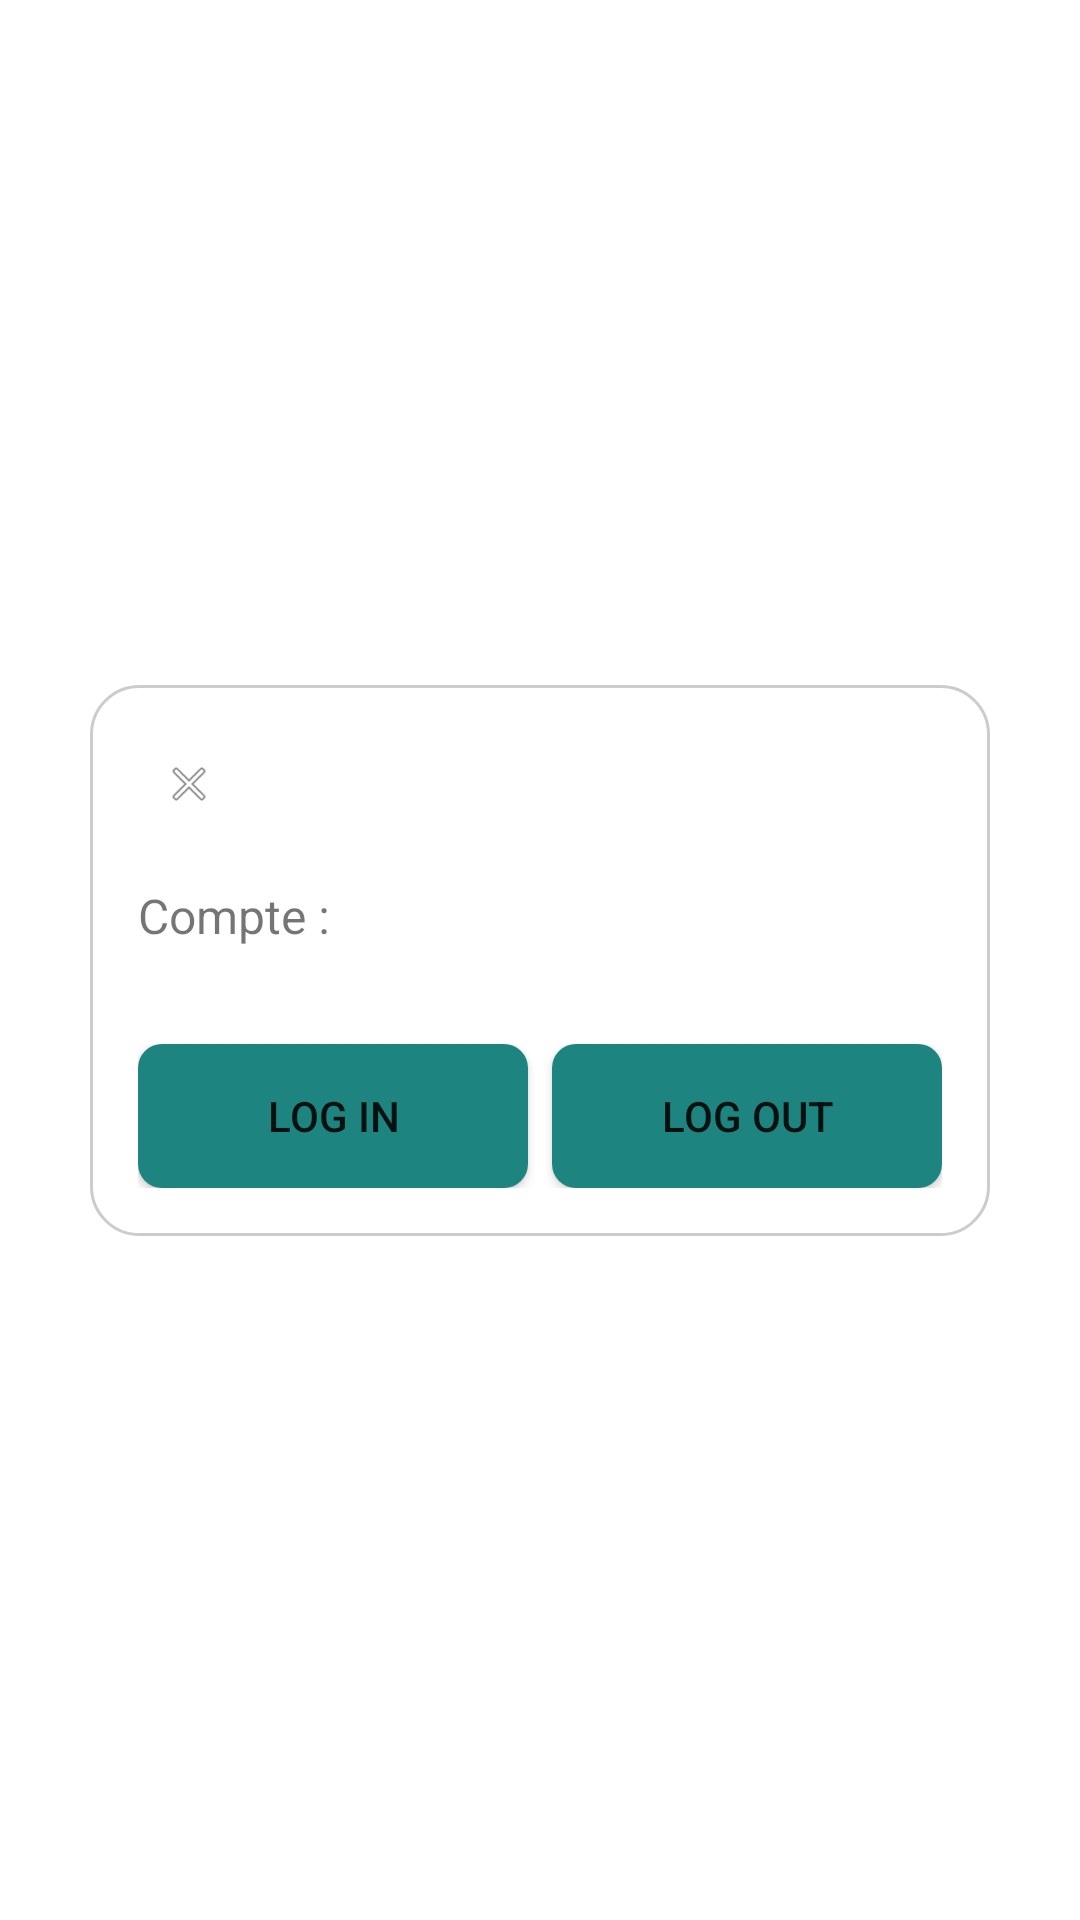

Screen size 1080px x 1920px. Icon name, then its box in pixels as (x1, y1, x2, y2):
Close: (172, 767, 206, 801)
